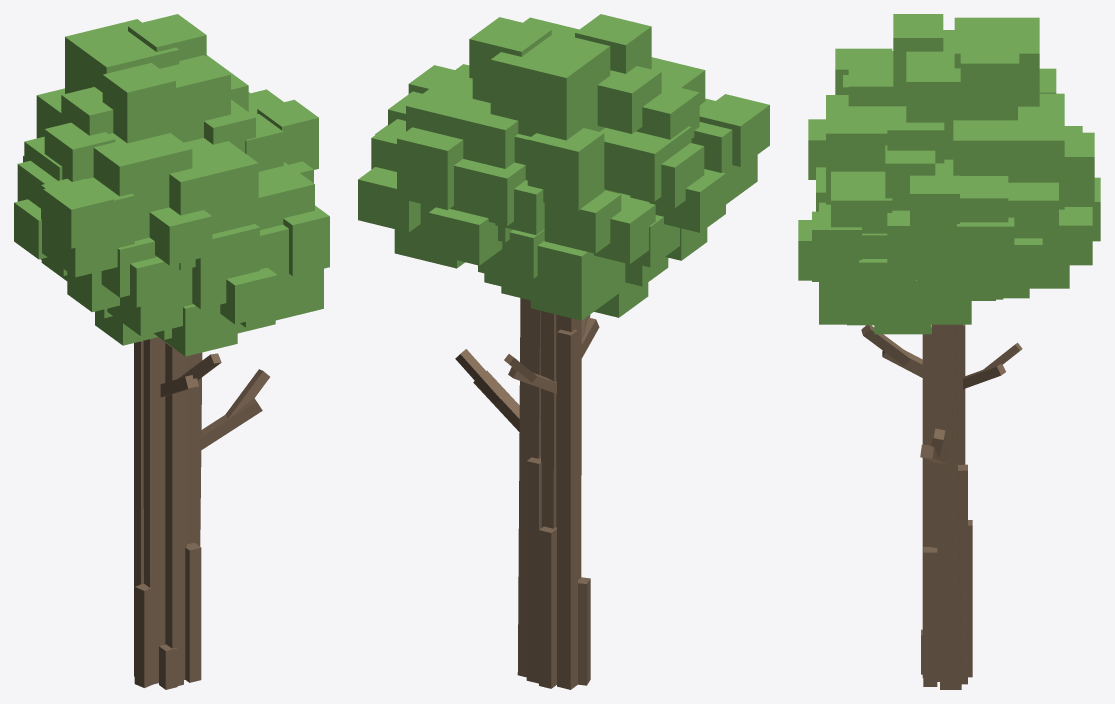
Rendered from SM_Tree_01_D.fbx.
The picture shows the model from 3 angles, left to right: view 1: azimuth 30°, elevation 25°; view 2: azimuth 150°, elevation 25°; view 3: azimuth 270°, elevation 25°; orthographic projection. The views are drawn at different scales.
Visible parts, largest first — view 1: pCube746; view 2: pCube746; view 3: pCube746.
Part boxes in pixels (left/top/right/bottom): pCube746: left=14, top=14, right=329, bottom=689; pCube746: left=358, top=14, right=769, bottom=689; pCube746: left=798, top=14, right=1100, bottom=689.
Size of the model in its own units: 197 by 407 by 176.
